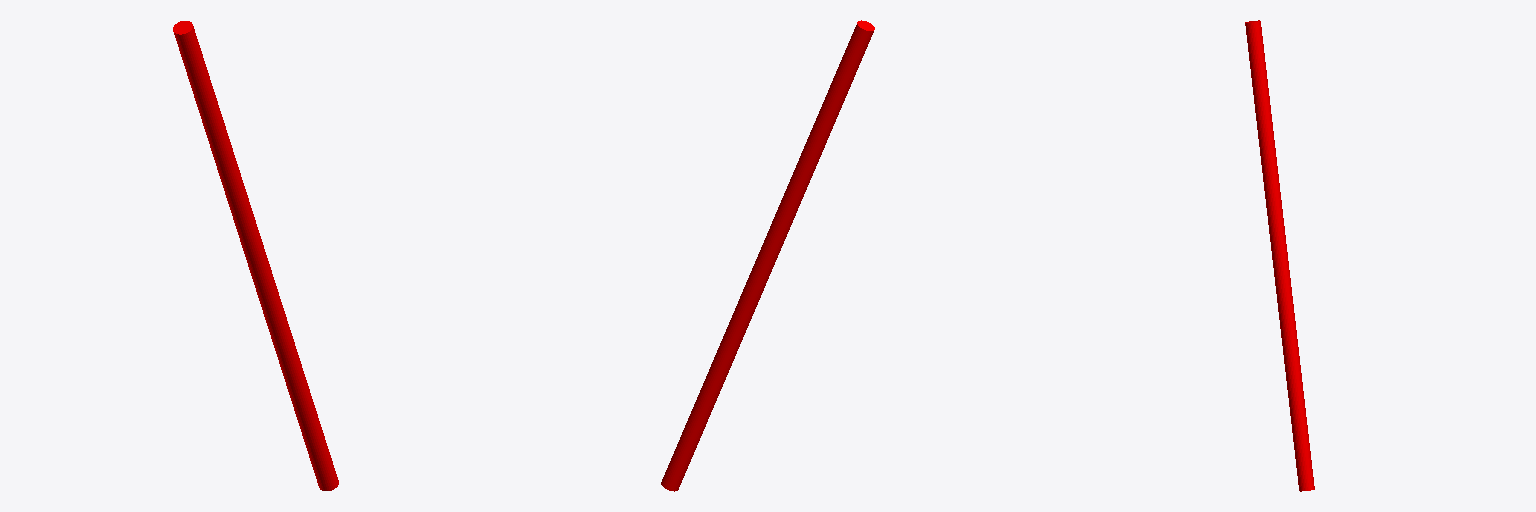
The robot description file, URDF, robot "tree_4.urdf":
<?xml version='1.0' encoding='utf-8'?>
<robot name="tree_4.urdf">
  <link name="branch_0">
    <inertial>
      <origin xyz="0.0 0.0 0.0" rpy="0.0 -0.0 0.0" />
      <mass value="1.0" />
      <inertia ixx="1.0" ixy="0.0" ixz="0.0" iyy="1.0" iyz="0.0" izz="1.0" />
    </inertial>
    <visual name="branch_0_visual">
      <geometry>
        <cylinder radius="0.05566274658233421" length="3.329663028334192" />
      </geometry>
      <material name="semantic_material" />
      <origin xyz="-0.5606425103791232 -0.19024352239776235 1.5560049319669242" rpy="0.0 0.3635732866311137 -2.8144537244713246" />
    </visual>
    <collision name="branch_0_collision">
      <geometry>
        <cylinder radius="0.05566274658233421" length="3.329663028334192" />
      </geometry>
      <origin xyz="-0.5606425103791232 -0.19024352239776235 1.5560049319669242" rpy="0.0 0.3635732866311137 -2.8144537244713246" />
    </collision>
  </link>
  <material name="semantic_material">
    <color rgba="1. 0. 0. 1." />
  </material>
</robot>

--- Render facts (derived) ---
3 views of the same robot in one strip: view 1: azimuth 30°, elevation 25°; view 2: azimuth 150°, elevation 25°; view 3: azimuth 270°, elevation 25° (orthographic).
Model tree_4.urdf with 1 links and 0 joints (none), rooted at branch_0, posed every joint at zero.
Links seen in each view (by area): view 1: branch_0; view 2: branch_0; view 3: branch_0.
Boxes of the visible links, bbox=[...] form: branch_0: bbox=[173, 21, 338, 490]; branch_0: bbox=[661, 20, 874, 491]; branch_0: bbox=[1245, 20, 1314, 491].
Size in the robot's own frame: 1.23 by 0.4907 by 3.15 metres.
Geometry: primitives only (box / cylinder / sphere), no mesh files.
